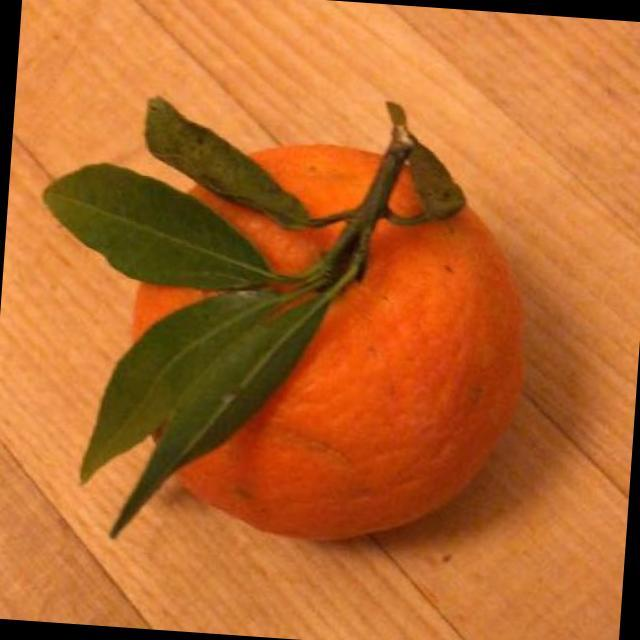Orange: (17, 59, 556, 582)
